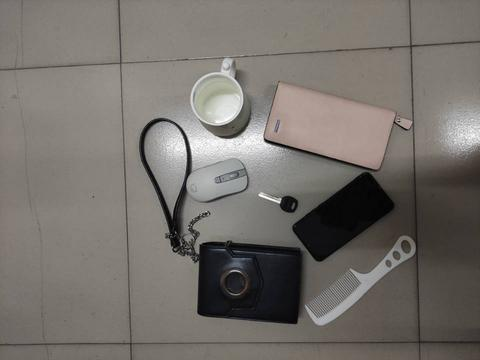bag: (146, 122, 311, 330)
cup: (190, 61, 252, 137)
key: (257, 191, 298, 214)
phone: (293, 173, 395, 263)
wallet: (261, 80, 403, 170), (194, 242, 302, 324)
